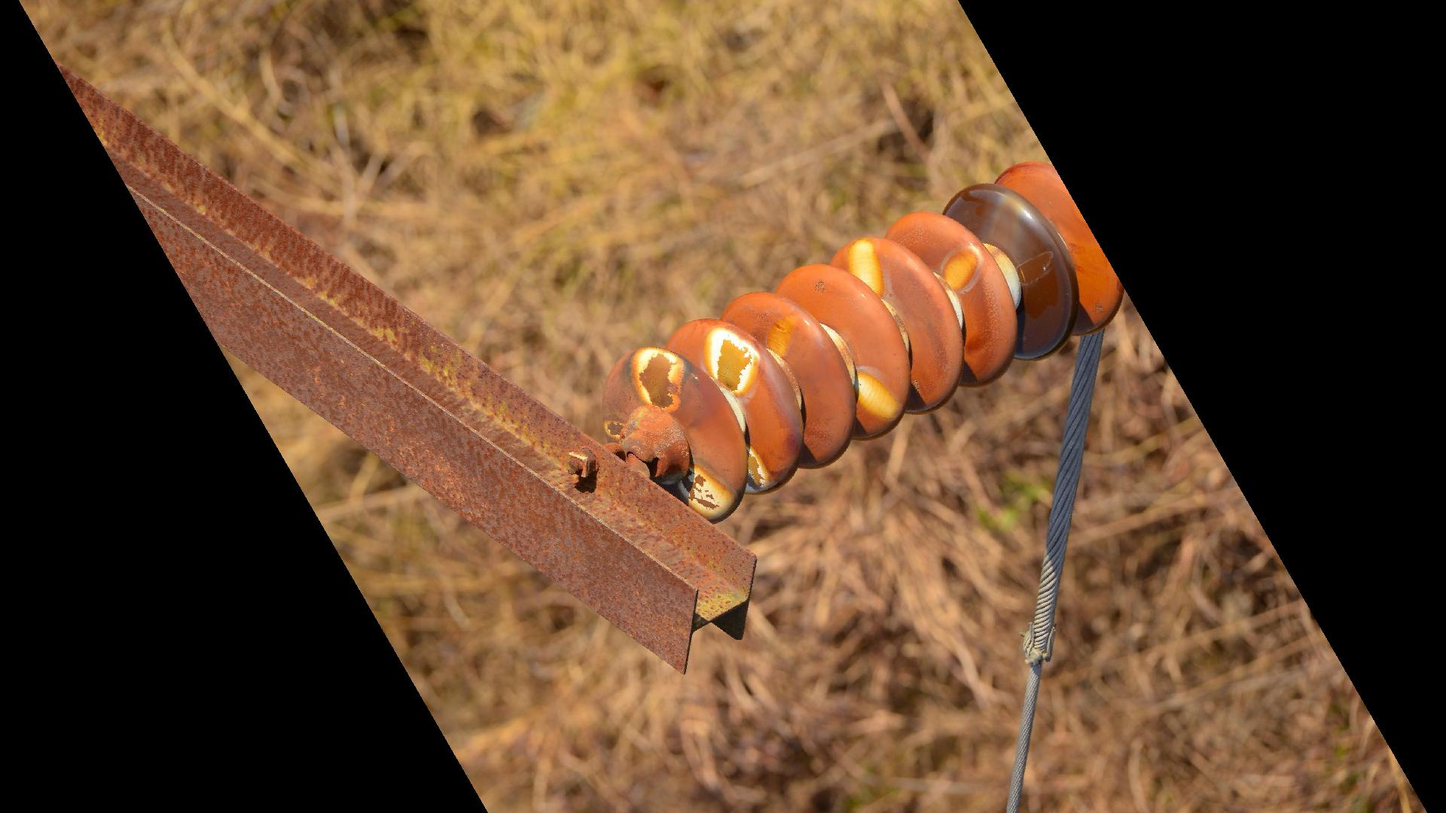insulator: (590, 156, 1129, 531)
insulator_flashover: (703, 324, 762, 396), (627, 344, 689, 411), (677, 461, 741, 524), (845, 236, 887, 300), (853, 370, 903, 422), (985, 190, 1026, 246), (940, 245, 981, 292), (743, 443, 777, 496), (765, 313, 796, 358)
